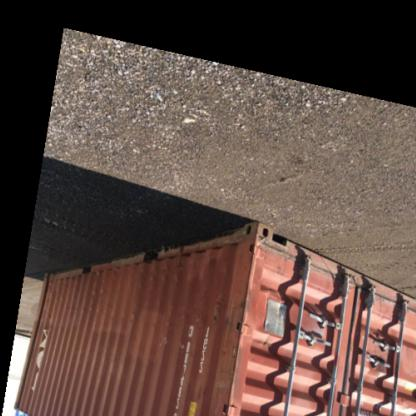Damage: (248, 231, 316, 265), (208, 335, 248, 391), (133, 244, 167, 274), (204, 291, 228, 330)
